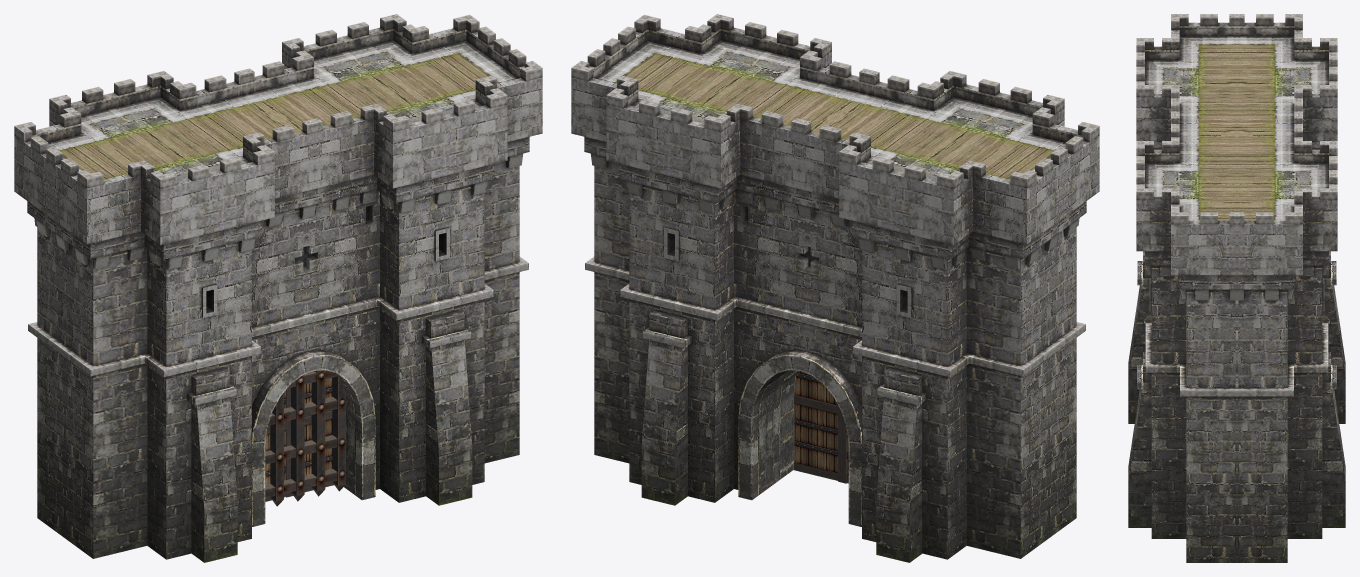
The model's file is CastleGate.FBX.
3 views of the same model, side by side, from view 1: azimuth 30°, elevation 25°; view 2: azimuth 150°, elevation 25°; view 3: azimuth 270°, elevation 25° (orthographic). The views are drawn at different scales.
Parts seen in each view (by area): view 1: CastleGate, CastleDoorShield, CastleDoor (×2); view 2: CastleGate, CastleDoor; view 3: CastleGate.
Boxes of the visible parts, bbox=[...] form: CastleGate: bbox=[14, 14, 542, 562]; CastleDoorShield: bbox=[265, 370, 345, 506]; CastleDoor (×2): bbox=[265, 377, 334, 501]; CastleGate: bbox=[571, 14, 1099, 562]; CastleDoor: bbox=[794, 371, 841, 482]; CastleGate: bbox=[1128, 14, 1345, 562].
Size of the model in its own units: 3694 by 3026 by 1681.
